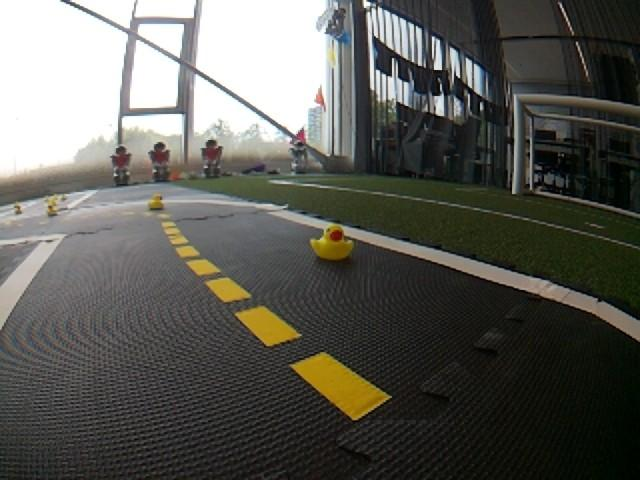Duckies: (307, 223, 354, 261), (148, 193, 165, 209), (47, 205, 57, 215), (14, 203, 21, 213), (49, 197, 57, 204), (62, 194, 68, 201), (44, 195, 50, 202)
